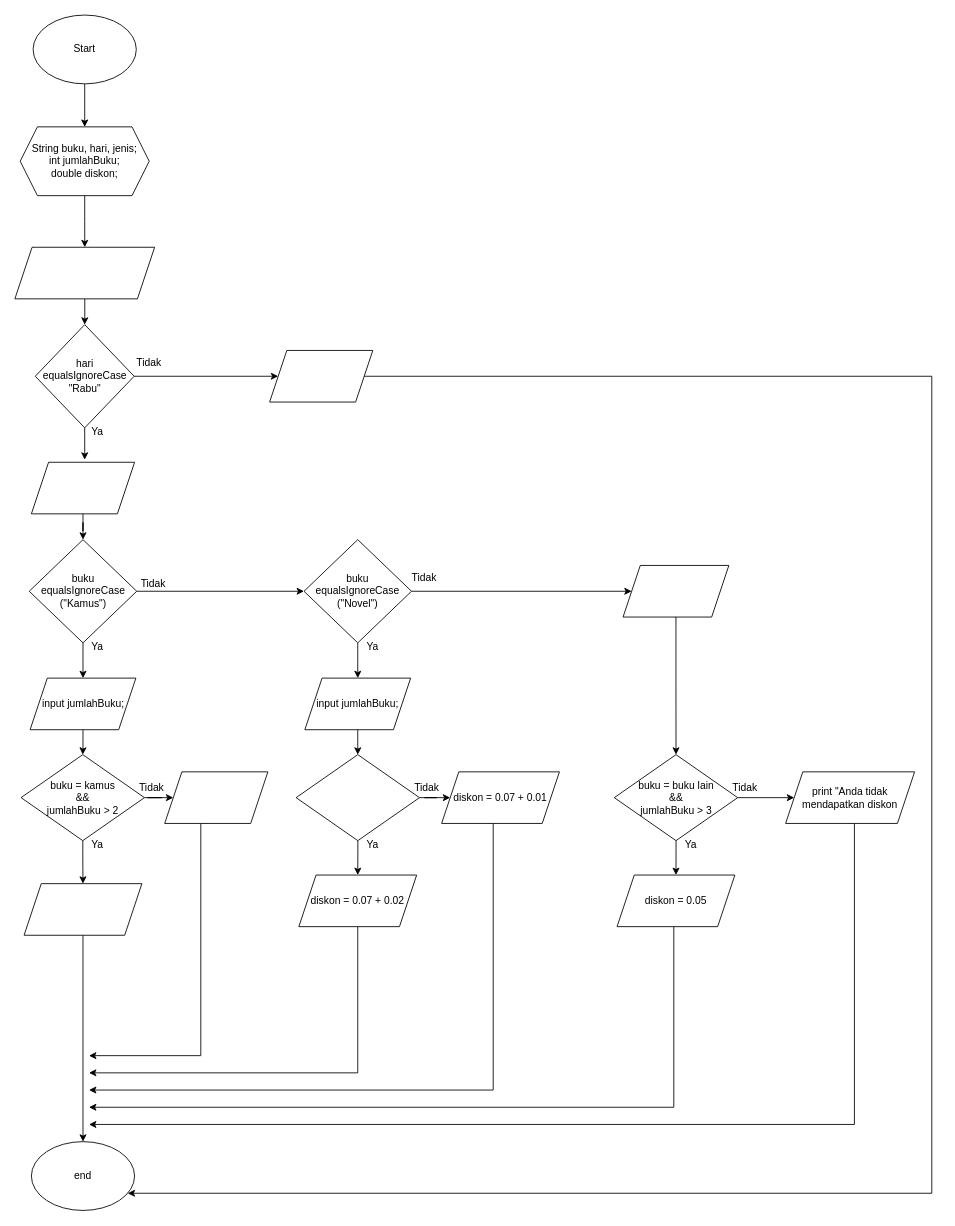
Some shapes in this 955 by 1226 pixel diagram are drawn without their labels. The box of each missing label's shape, as (x1, y1, x2, y2) in pixels:
buku = novel && jumlahBuku > 3: (295, 754, 420, 841)
diskon = 0.10: (164, 771, 268, 823)
diskon = 0.10 + 0.02: (23, 883, 142, 935)
input buku, jumlahBuku ;: (622, 565, 729, 617)
input buku;: (31, 461, 135, 514)
input hari;: (14, 246, 155, 299)
print "Tidak ada diskon hari ini": (269, 350, 373, 402)
